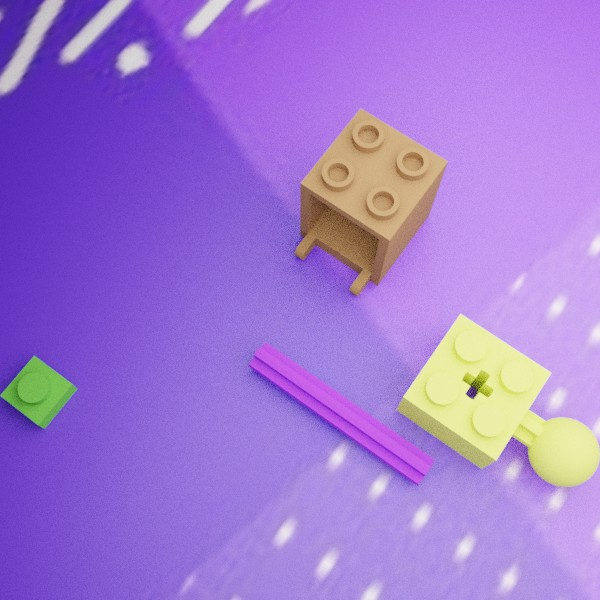lego: (396, 313, 600, 487), (294, 107, 448, 296), (248, 342, 434, 485), (0, 355, 77, 429)
